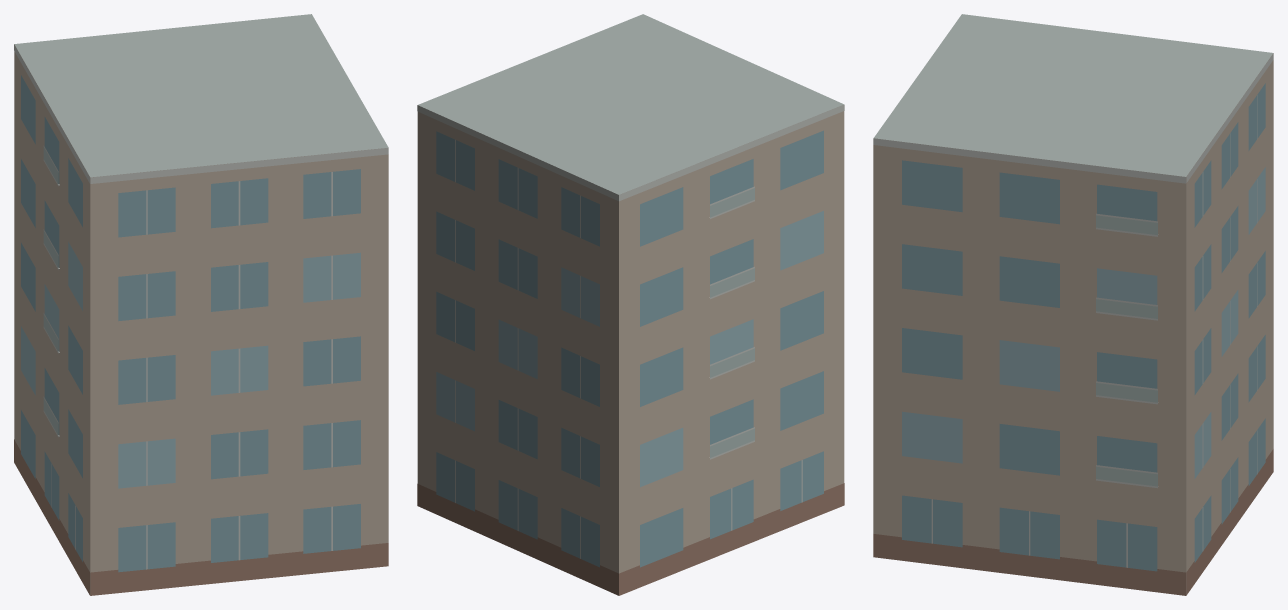
Rendered from survey-upis-32576837.glb.
3 renders of one model, left to right at view 1: azimuth 30°, elevation 25°; view 2: azimuth 150°, elevation 25°; view 3: azimuth 270°, elevation 25°, orthographic. The views are drawn at different scales.
Parts seen in each view (by area): view 1: survey-upis-32576837.tmp; view 2: survey-upis-32576837.tmp; view 3: survey-upis-32576837.tmp.
Part boxes in pixels (left/top/right/bottom): survey-upis-32576837.tmp: left=14, top=14, right=388, bottom=595; survey-upis-32576837.tmp: left=417, top=14, right=844, bottom=595; survey-upis-32576837.tmp: left=873, top=14, right=1273, bottom=595.
Size of the model in its own units: 12.73 by 15.25 by 13.21.
